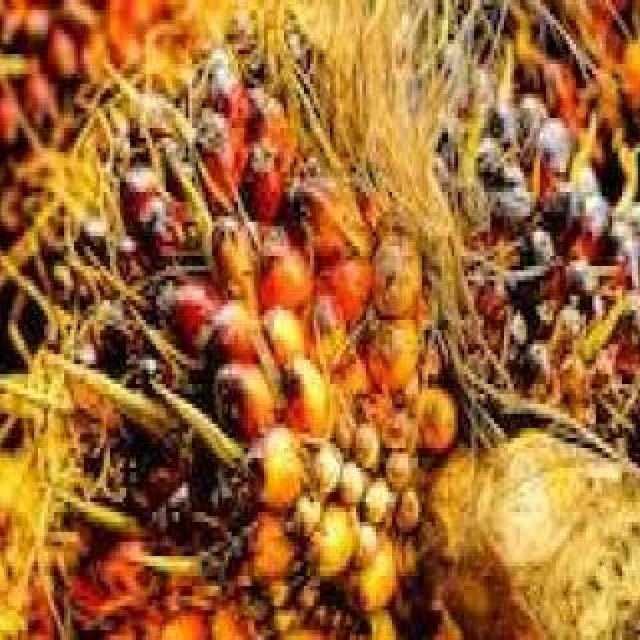Ripe: (144, 76, 640, 640), (0, 0, 232, 244)
